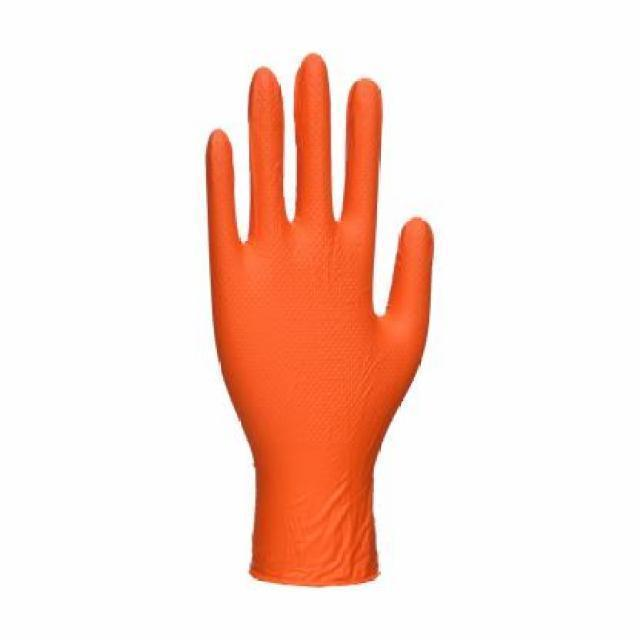gloved_hand: (185, 47, 447, 603)
